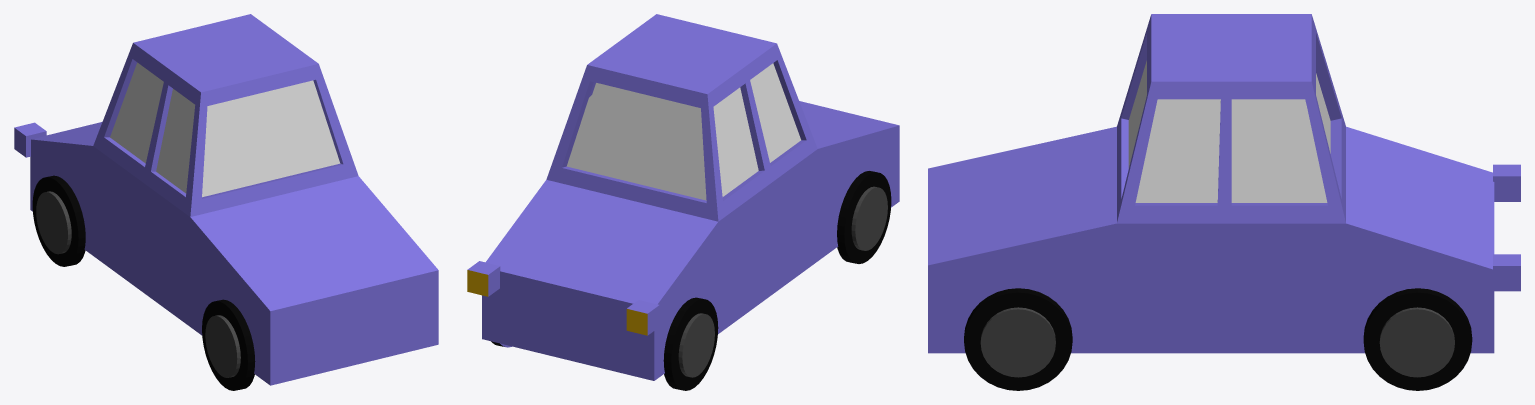
The model's file is car1.fbx.
3 renders of one model, left to right at view 1: azimuth 30°, elevation 25°; view 2: azimuth 150°, elevation 25°; view 3: azimuth 270°, elevation 25°, orthographic. The views are drawn at different scales.
Parts seen in each view (by area): view 1: Cube.130; view 2: Cube.130; view 3: Cube.130.
Boxes of the visible parts, x1,y1,x2,y2 form: Cube.130: (14, 14, 438, 390); Cube.130: (467, 14, 899, 390); Cube.130: (928, 14, 1520, 390).
Size of the model in its own units: 73.24 by 91.24 by 169.
